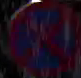No waiting: (5, 0, 80, 77)
